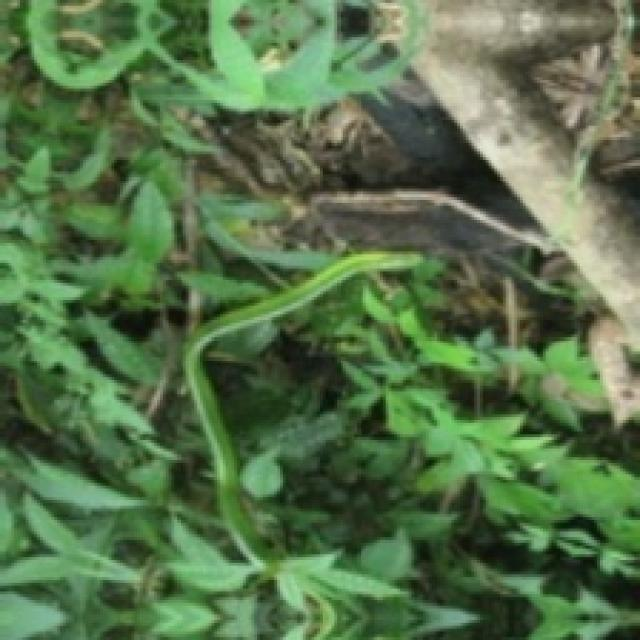red-tailed green ratsnake: (183, 251, 420, 569)
